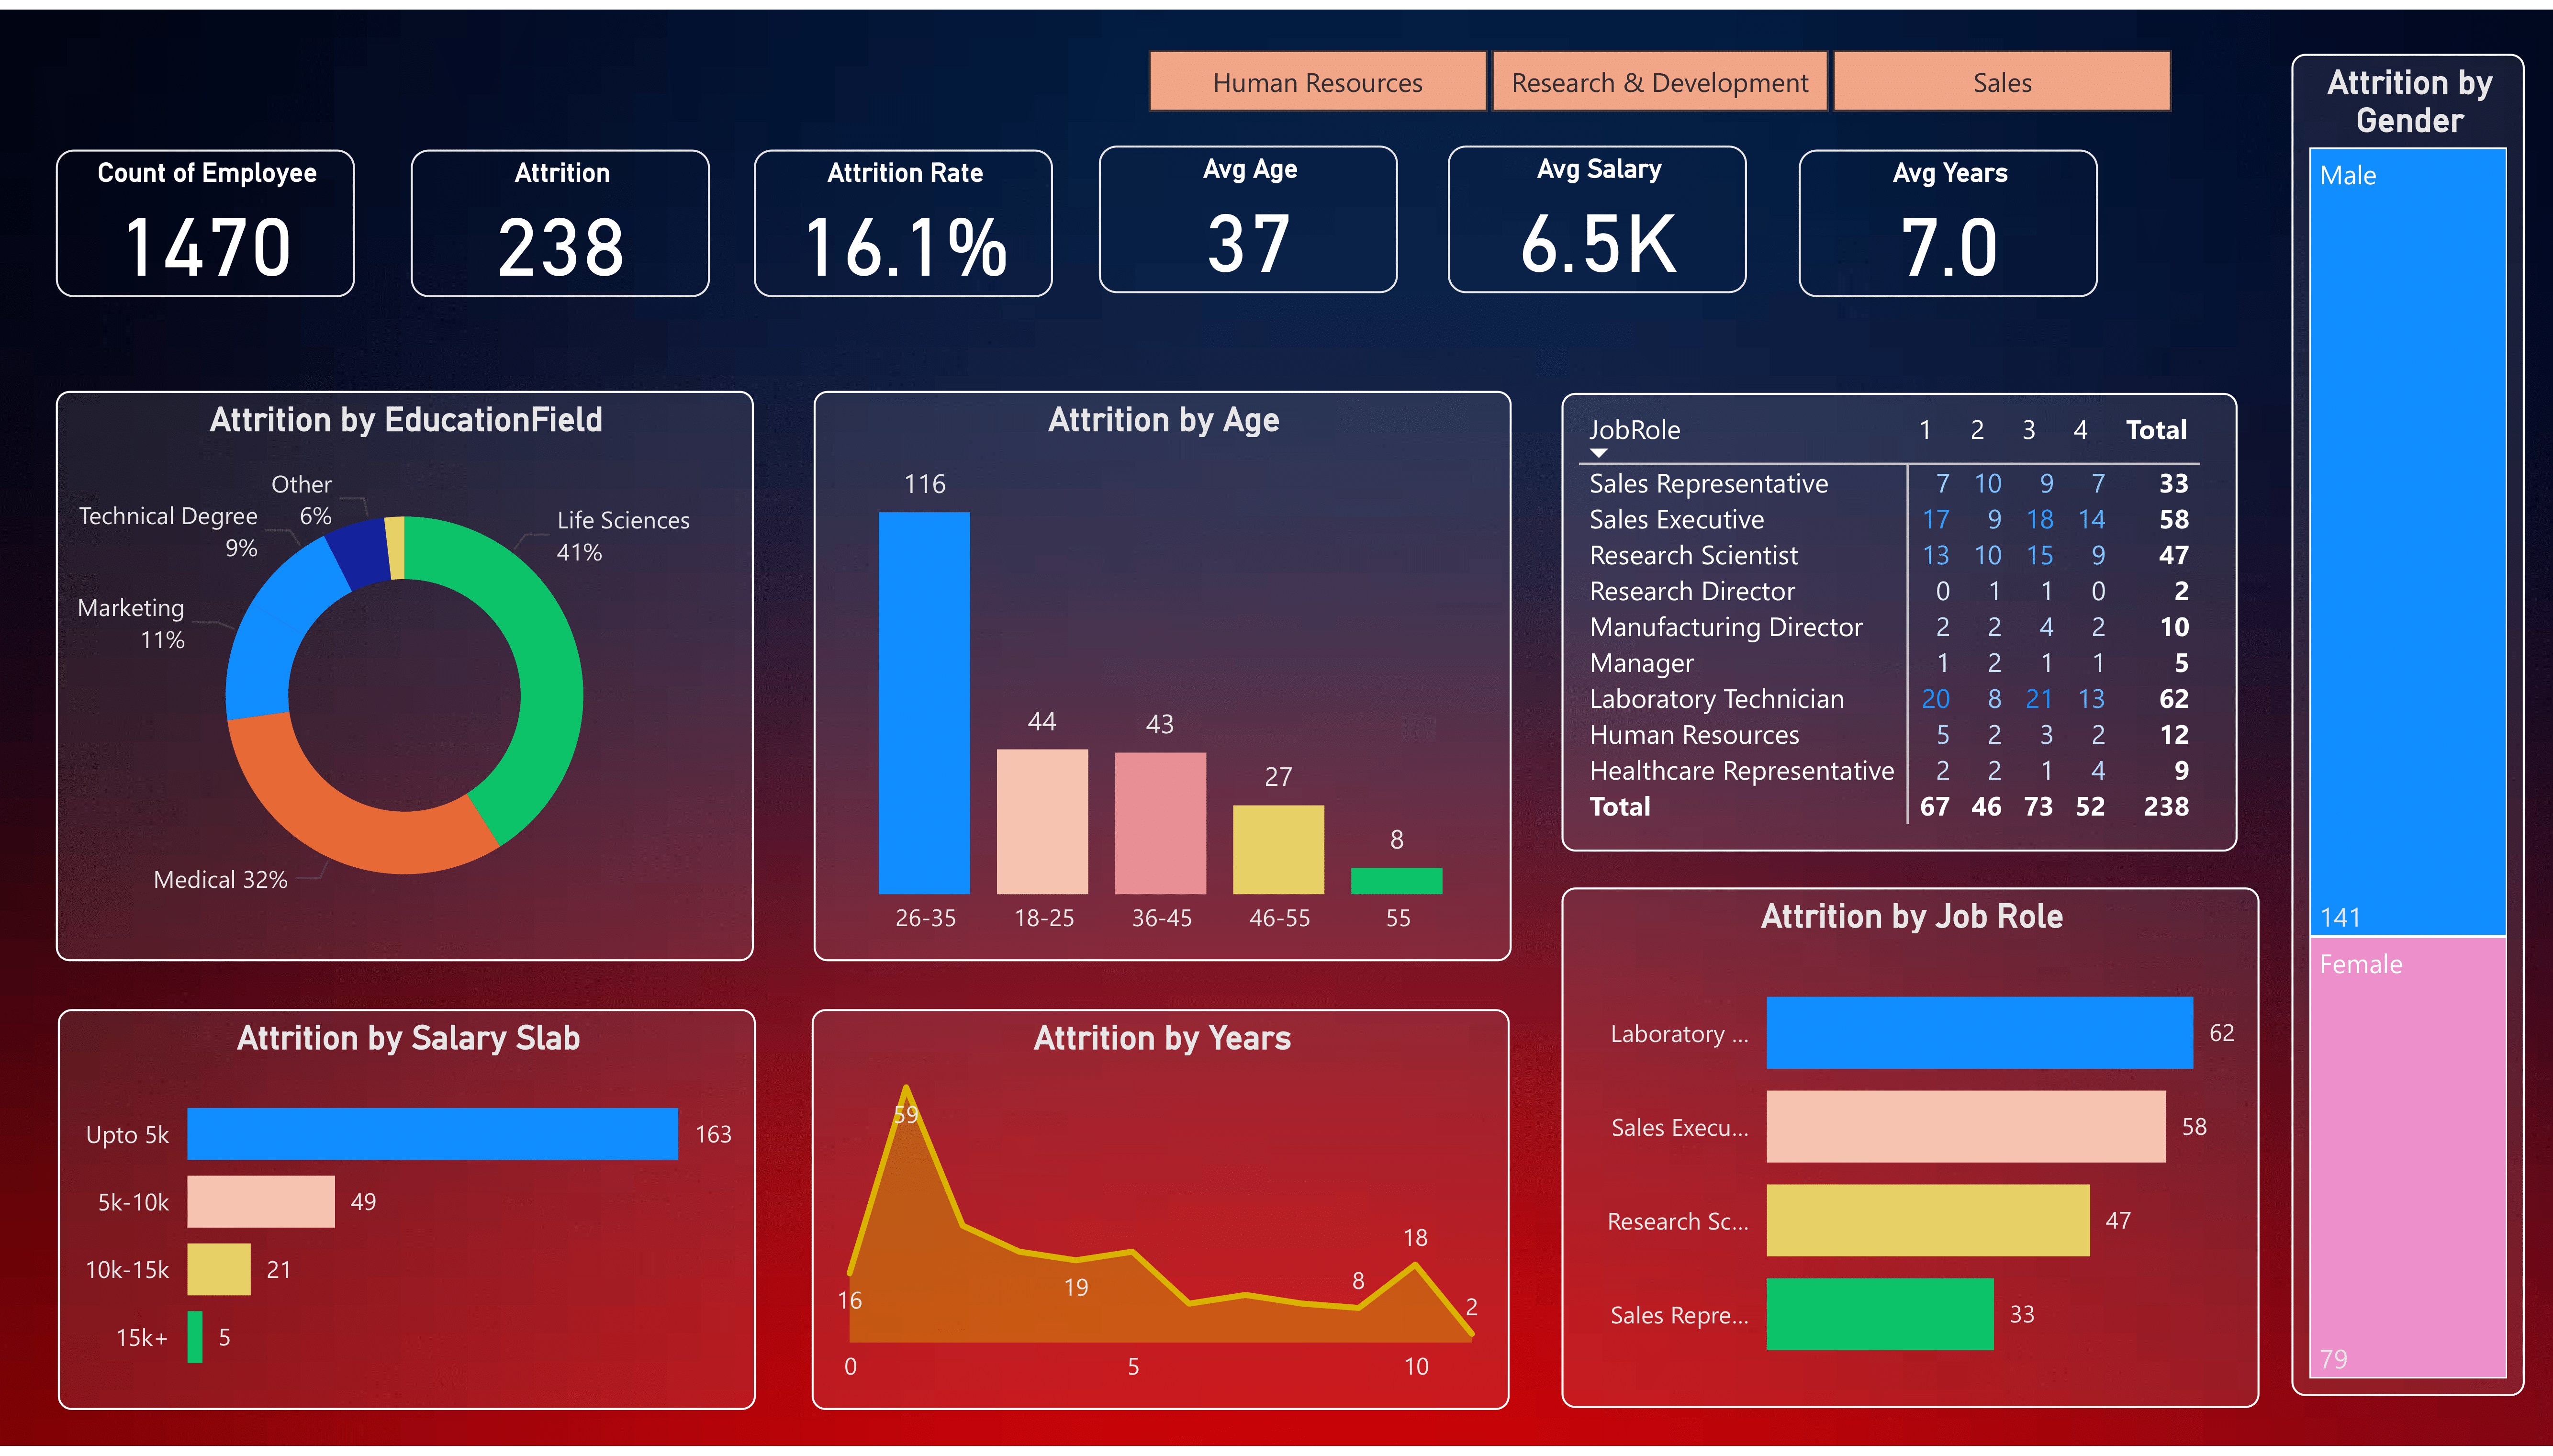

Layout of this report page (visuals, bound fields, positions):
{"tool":"powerbi","page":{"name":"Page 1","canvas":[1280,720],"ordinal":0},"visuals":[{"type":"card","title":"Count of Employee","fields":{"Values":["Count(Table.EmpID)"]},"box":[28.5,69.6,150.3,74.4],"z":0},{"type":"card","title":"Attrition","fields":{"Values":["Sum(Table.Attrition_Count)"]},"box":[205.7,69.6,150.3,74.4],"z":1000},{"type":"card","title":"Attrition Rate","fields":{"Values":["Table.Attrition_Rate"]},"box":[378.1,69.6,150.3,74.4],"z":2000},{"type":"card","title":"Avg Age","fields":{"Values":["Avg(Table.Age)"]},"box":[550.6,68,150.3,74.4],"z":3000},{"type":"card","title":"Avg Salary","fields":{"Values":["Avg(Table.MonthlyIncome)"]},"box":[726.2,68,150.3,74.4],"z":4000},{"type":"card","title":"Avg Years","fields":{"Values":["Avg(Table.YearsAtCompany)"]},"box":[901.9,69.6,150.3,74.4],"z":5000},{"type":"donutChart","title":"Attrition by EducationField","fields":{"Category":["Table.EducationField"],"Y":["CountNonNull(Table.Attrition)"]},"box":[28.5,191.4,349.7,286.4],"z":6000},{"type":"columnChart","title":"Attrition by Age","fields":{"Category":["Table.AgeGroup"],"Y":["Sum(Table.Attrition_Count)"]},"box":[408.2,191.4,349.7,286.4],"z":7000},{"type":"pivotTable","fields":{"Rows":["Table.JobRole"],"Columns":["Table.JobSatisfaction"],"Values":["Sum(Table.Attrition_Count)"]},"box":[782.6,191.7,339,229.7],"z":8000},{"type":"barChart","title":"Attrition by Job Role","fields":{"Y":["Sum(Table.Attrition_Count)"],"Category":["Table.JobRole"]},"box":[782.6,440.4,350.1,261.4],"z":9000},{"type":"areaChart","title":"Attrition by Years","fields":{"Y":["Sum(Table.Attrition_Count)"],"Category":["Table.YearsAtCompany"]},"box":[407.1,500.6,350.1,201.2],"z":10000},{"type":"barChart","title":"Attrition by Salary Slab","fields":{"Category":["Table.SalarySlab"],"Y":["Sum(Table.Attrition_Count)"]},"box":[28.5,500.6,350.1,201.2],"z":11000},{"type":"treemap","title":"Attrition by Gender","fields":{"Values":["Sum(Table.Attrition_Count)"],"Group":["Table.Gender"]},"box":[1148.5,22.2,117.2,673.3],"z":12000},{"type":"slicer","fields":{"Values":["Table.Department"]},"box":[550.4,12.8,563.2,44.8],"z":13000},{"type":"textbox","box":[40.9,13.2,509.9,50.2],"z":14001}]}

Visuals, with their boxes in screenshot pixels (x1, y1, x2, y2), scaled from the page's 1280x720 canvas onto the 2553x1456 screenshot:
"Count of Employee" card: x1=57, y1=141, x2=357, y2=291
"Attrition" card: x1=410, y1=141, x2=710, y2=291
"Attrition Rate" card: x1=754, y1=141, x2=1054, y2=291
"Avg Age" card: x1=1098, y1=137, x2=1398, y2=288
"Avg Salary" card: x1=1448, y1=137, x2=1748, y2=288
"Avg Years" card: x1=1799, y1=141, x2=2099, y2=291
"Attrition by EducationField" donutChart: x1=57, y1=387, x2=754, y2=966
"Attrition by Age" columnChart: x1=814, y1=387, x2=1512, y2=966
pivotTable - Table.JobRole x Table.JobSatisfaction: x1=1561, y1=388, x2=2237, y2=852
"Attrition by Job Role" barChart: x1=1561, y1=891, x2=2259, y2=1419
"Attrition by Years" areaChart: x1=812, y1=1012, x2=1510, y2=1419
"Attrition by Salary Slab" barChart: x1=57, y1=1012, x2=755, y2=1419
"Attrition by Gender" treemap: x1=2291, y1=45, x2=2524, y2=1406
slicer - Table.Department: x1=1098, y1=26, x2=2221, y2=116
textbox: x1=81, y1=27, x2=1098, y2=128
